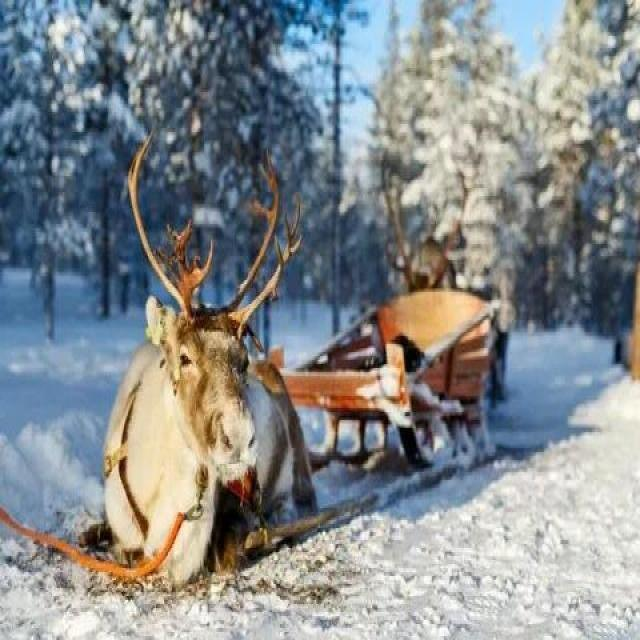deer: (43, 143, 359, 598)
